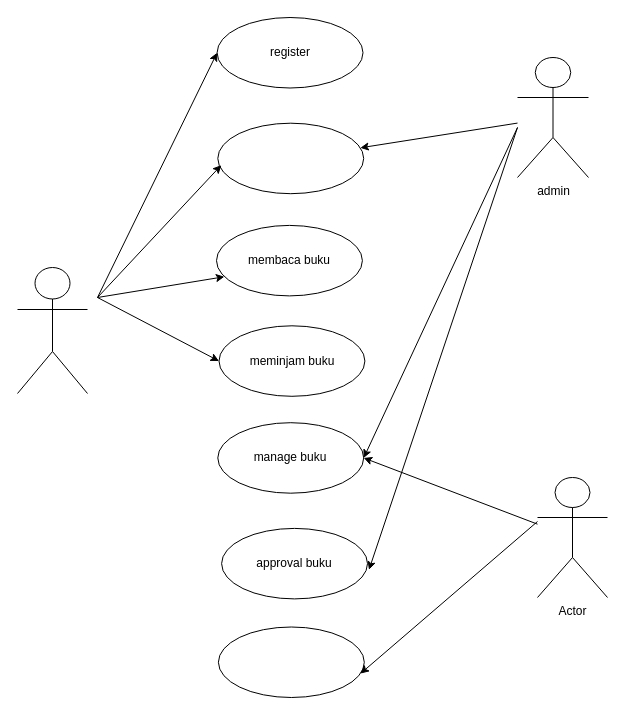
The diagram is 625 pixels wide and 715 high, and some of its shapes have lost their labels. The shapes that lost their labels are listed below. From the top down, each one's centre as x and y in pixels, then its label:
At [290,158]: "login".
At [52,330]: "user".
At [290,662]: "manage user".
